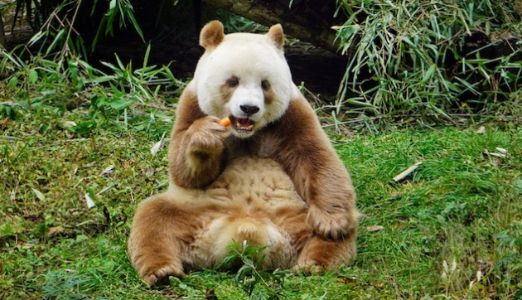bear: (132, 17, 364, 283)
